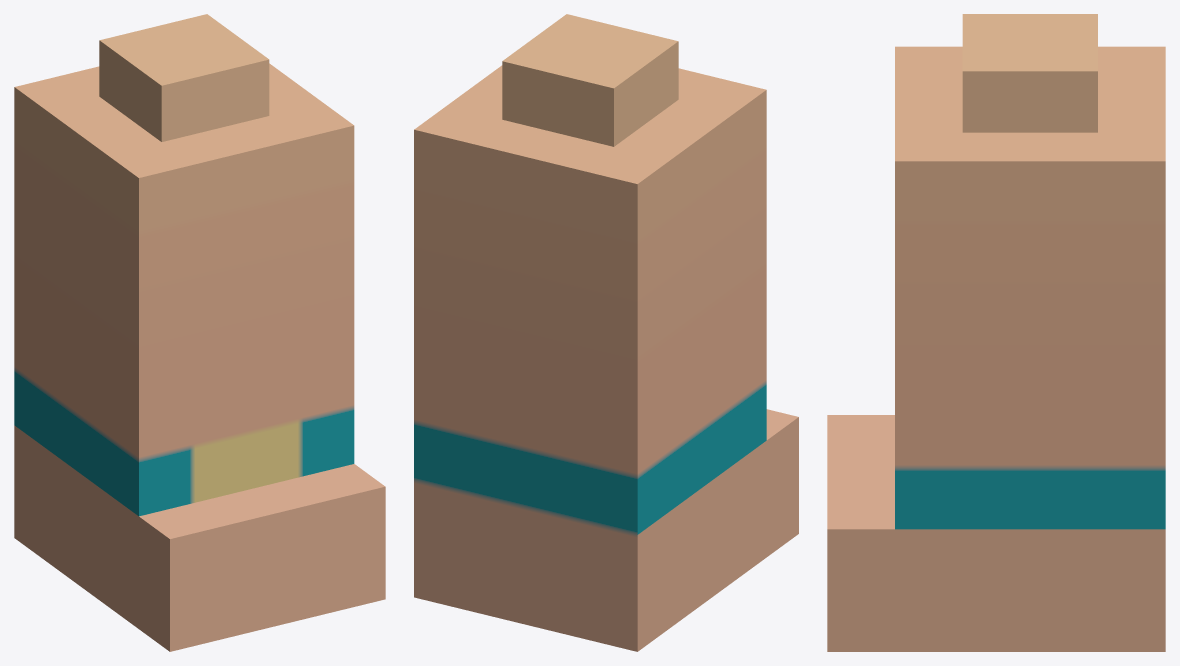
The model's file is Knee071.fbx.
3 views of the same model, side by side, from view 1: azimuth 30°, elevation 25°; view 2: azimuth 150°, elevation 25°; view 3: azimuth 270°, elevation 25° (orthographic). The views are drawn at different scales.
Visible parts, largest first — view 1: Knee071; view 2: Knee071; view 3: Knee071.
Boxes of the visible parts, box(x1,y1,x2,y2) form: Knee071: box(14, 14, 385, 651); Knee071: box(414, 14, 798, 651); Knee071: box(827, 14, 1165, 651).
Bounding box in the file's own units: 4 × 9 × 5.
